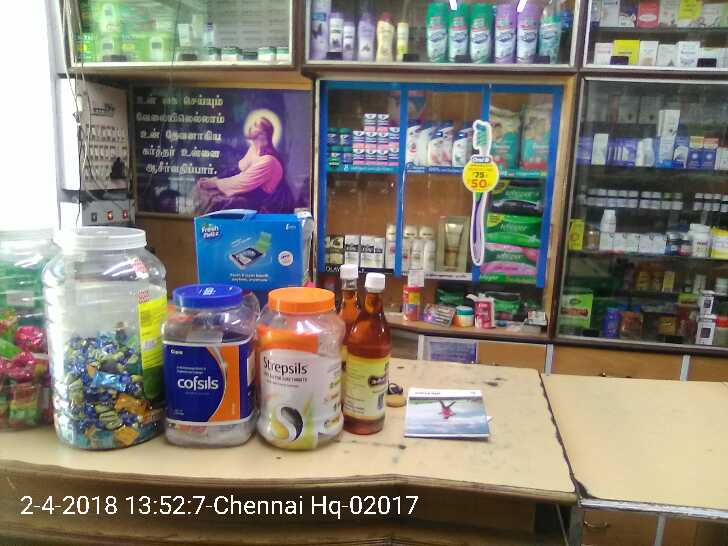vicks: (389, 143, 401, 170), (351, 150, 366, 167), (328, 147, 342, 165), (339, 128, 352, 146), (365, 150, 378, 167), (328, 127, 339, 146), (365, 113, 377, 130), (377, 114, 389, 130), (389, 128, 400, 143), (377, 149, 387, 165), (353, 134, 365, 147), (378, 133, 387, 147), (366, 138, 375, 146)
